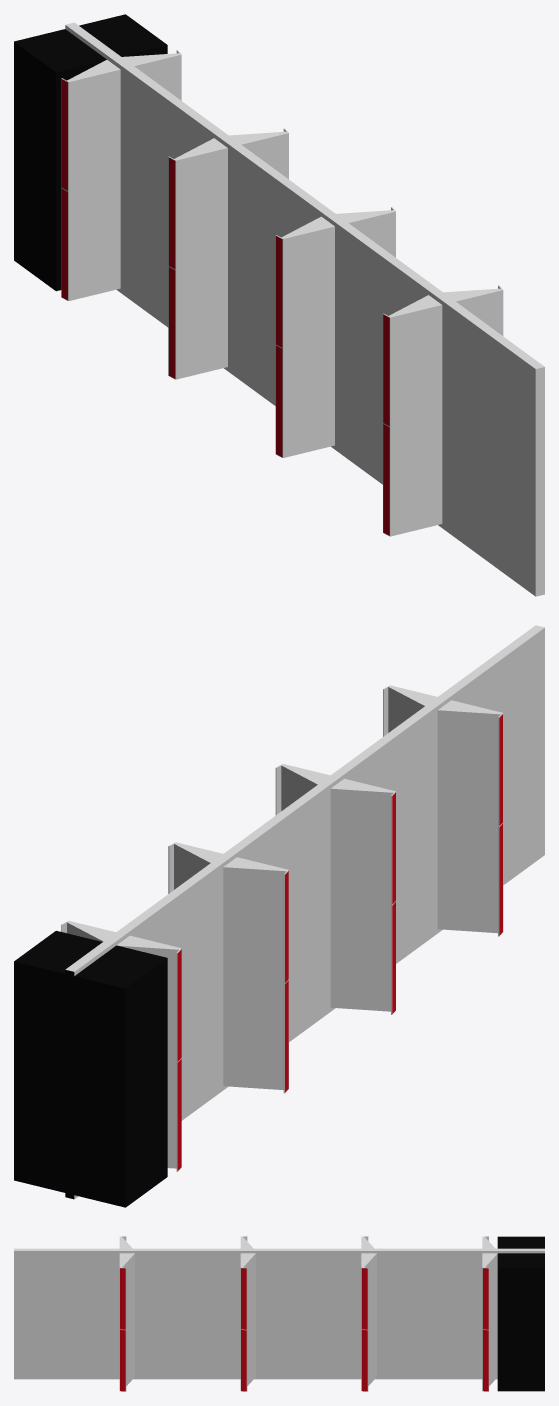
File: shelf (1).fbx
3 views of the same model, one above another, from view 1: azimuth 30°, elevation 25°; view 2: azimuth 150°, elevation 25°; view 3: azimuth 270°, elevation 25° (orthographic). The views are drawn at different scales.
Parts seen in each view (by area): view 1: Shelves, shelf__1_; view 2: Shelves, shelf__1_; view 3: Shelves, shelf__1_.
Boxes of the visible parts, x1=… form: Shelves: x1=61, y1=50, x2=544, y2=596; shelf__1_: x1=14, y1=14, x2=167, y2=291; Shelves: x1=61, y1=625, x2=544, y2=1171; shelf__1_: x1=14, y1=930, x2=167, y2=1207; Shelves: x1=14, y1=1236, x2=497, y2=1391; shelf__1_: x1=497, y1=1236, x2=544, y2=1391.
Bounding box in the file's own units: 208 × 389 × 1460.
